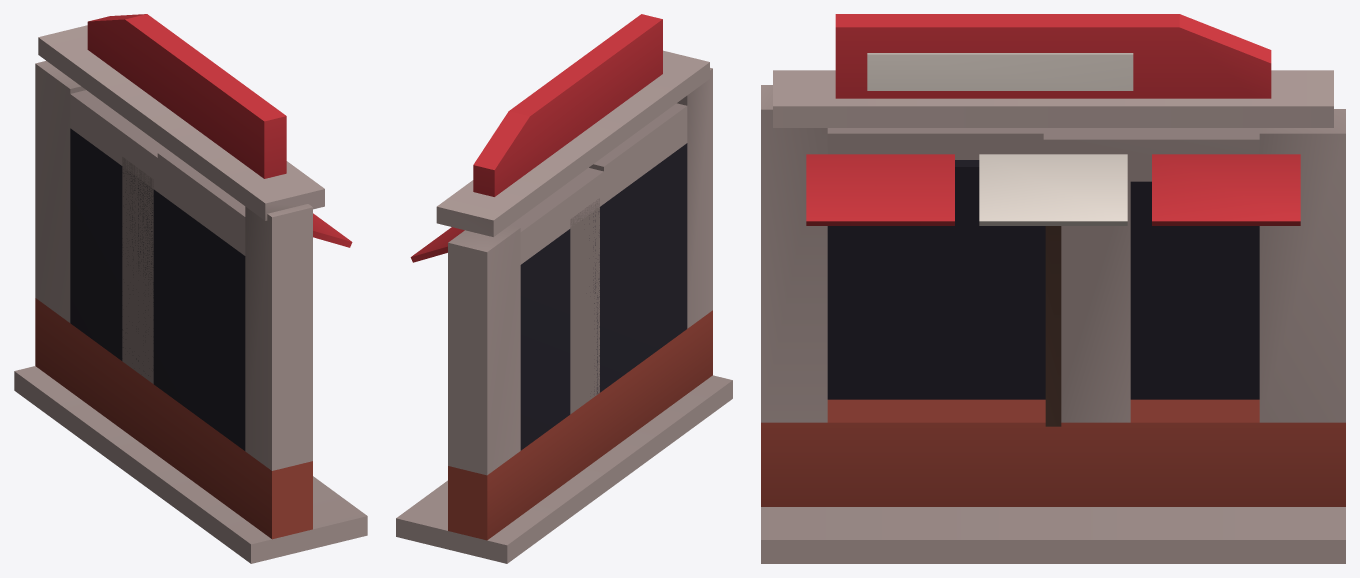
3 views of the same model, side by side, from view 1: azimuth 30°, elevation 25°; view 2: azimuth 150°, elevation 25°; view 3: azimuth 270°, elevation 25° (orthographic). The views are drawn at different scales.
Parts seen in each view (by area): view 1: root_pal_sidewalk, root_pal_uiDark, root_pal_brick, root_pal_survivorRed; view 2: root_pal_sidewalk, root_pal_uiDark, root_pal_brick, root_pal_survivorRed; view 3: root_pal_sidewalk, root_pal_uiDark, root_pal_brick, root_pal_survivorRed, root_pal_picketWhite, root_pal_leather.
Part boxes in pixels (x1,y1,x2,y2): root_pal_sidewalk: (14,25,367,563); root_pal_uiDark: (70,128,245,450); root_pal_brick: (35,298,312,539); root_pal_survivorRed: (87,14,352,247); root_pal_sidewalk: (396,50,732,563); root_pal_uiDark: (520,143,687,450); root_pal_brick: (448,310,712,540); root_pal_survivorRed: (410,14,662,262); root_pal_sidewalk: (761,70,1345,563); root_pal_uiDark: (827,160,1259,399); root_pal_brick: (761,399,1345,506); root_pal_survivorRed: (806,14,1300,225); root_pal_picketWhite: (867,53,1133,225); root_pal_leather: (1045,226,1061,426).
Size of the model in its own units: 1.28 by 4.2 by 4.4.
